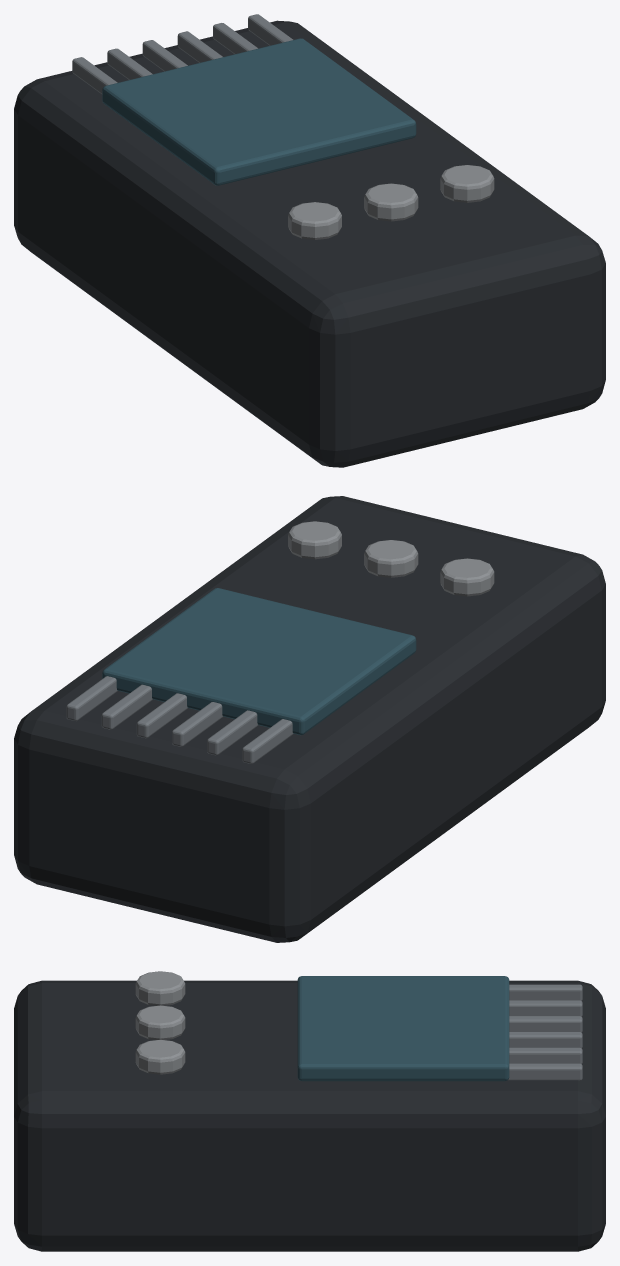
Rendered from BL_HandheldRecorder.fbx.
3 views of the same model, one above another, from view 1: azimuth 30°, elevation 25°; view 2: azimuth 150°, elevation 25°; view 3: azimuth 270°, elevation 25° (orthographic). The views are drawn at different scales.
Parts seen in each view (by area): view 1: BL_HandheldRecorder_LOD0; view 2: BL_HandheldRecorder_LOD0; view 3: BL_HandheldRecorder_LOD0.
Boxes of the visible parts, x1,y1,x2,y2 form: BL_HandheldRecorder_LOD0: (14,14,605,467); BL_HandheldRecorder_LOD0: (14,496,605,942); BL_HandheldRecorder_LOD0: (14,971,605,1251).
Size of what is drawn, in the model's own units: 10 by 6.4 by 19.
